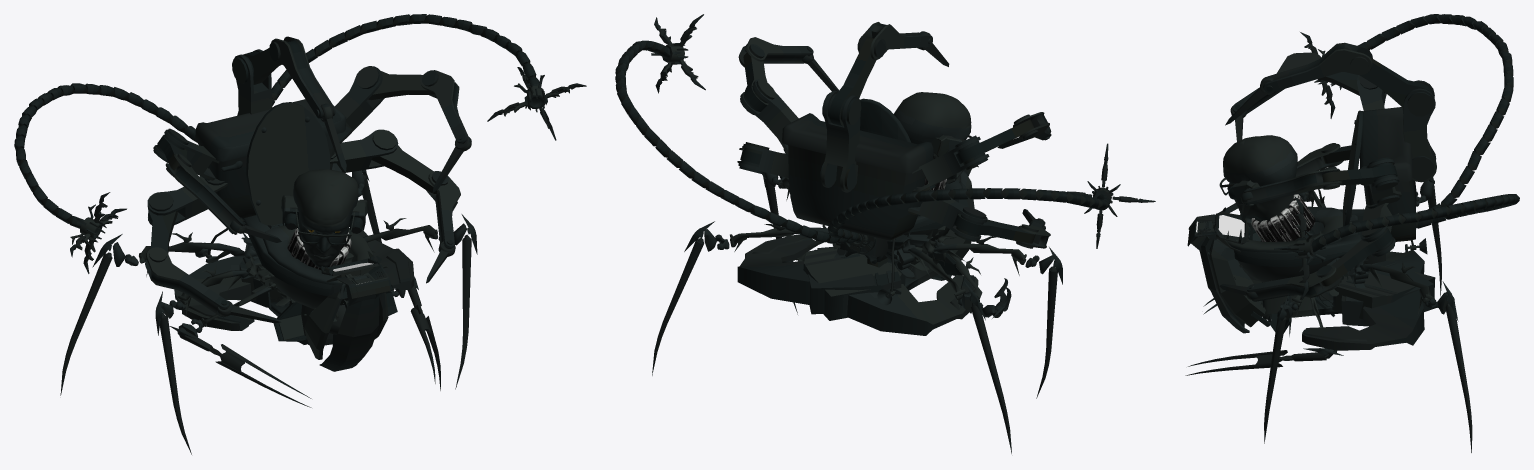
File: UpgradedKleinerToilet.fbx
The picture shows the model from 3 angles, left to right: view 1: azimuth 30°, elevation 25°; view 2: azimuth 150°, elevation 25°; view 3: azimuth 270°, elevation 25°; orthographic projection. The views are drawn at different scales.
Visible parts, largest first — view 1: toilet1.smd, Scalpel.smd, masterinterface_dyn_reference.smd, claw_s.smd.004, claw_s.smd.002, claw_s.smd, head.smd, claw_s.smd.003, claw_s.smd.001, Tent, Tent.001, c_irifle_v_irifle_IRifle_reference.smd.001 (+8 smaller); view 2: toilet1.smd, Scalpel.smd, c_irifle_v_irifle_IRifle_reference.smd.001, claw_s.smd.004, c_irifle_v_irifle_IRifle_reference.smd.002, claw_s.smd.002, Tent.001, claw_s.smd, claw_s.smd.001, Tent, head.smd, claw_s.smd.003 (+5 smaller); view 3: toilet1.smd, claw_s.smd.004, Scalpel.smd, c_irifle_v_irifle_IRifle_reference.smd.002, masterinterface_dyn_reference.smd, head.smd, claw_s.smd.003, claw_s.smd.002, Tent, Tent.001, c_irifle_v_irifle_IRifle_reference.smd.001, claw_s.smd.001 (+8 smaller).
Part boxes in pixels (x1,y1,x2,y2): toilet1.smd: (195,99,374,345); Scalpel.smd: (60,169,477,454); masterinterface_dyn_reference.smd: (270,251,397,371); claw_s.smd.004: (232,36,346,172); claw_s.smd.002: (335,66,471,192); claw_s.smd: (145,168,280,323); head.smd: (293,169,358,267); claw_s.smd.003: (330,129,460,283); claw_s.smd.001: (153,128,281,242); Tent: (14,83,198,242); Tent.001: (271,14,547,112); c_irifle_v_irifle_IRifle_reference.smd.001: (174,244,271,330); toilet1.smd: (782,98,962,305); Scalpel.smd: (652,172,1062,453); c_irifle_v_irifle_IRifle_reference.smd.001: (803,248,978,335); claw_s.smd.004: (820,22,949,192); c_irifle_v_irifle_IRifle_reference.smd.002: (737,234,901,314); claw_s.smd.002: (738,37,838,156); Tent.001: (615,40,859,243); claw_s.smd: (908,185,1050,248); claw_s.smd.001: (912,112,1051,192); Tent: (827,186,1113,242); head.smd: (894,92,971,179); claw_s.smd.003: (737,142,788,177); toilet1.smd: (1226,107,1427,319); claw_s.smd.004: (1225,42,1436,182); Scalpel.smd: (1185,177,1472,452); c_irifle_v_irifle_IRifle_reference.smd.002: (1302,260,1434,350); masterinterface_dyn_reference.smd: (1199,207,1334,333); head.smd: (1219,135,1315,237); claw_s.smd.003: (1219,203,1398,301); claw_s.smd.002: (1240,157,1401,219); Tent: (1314,14,1513,209); Tent.001: (1292,194,1519,258); c_irifle_v_irifle_IRifle_reference.smd.001: (1332,250,1435,319); claw_s.smd.001: (1230,52,1386,141).
Size of the model in its own units: 1057 by 727 by 625.
19 materials, 15 textured.
